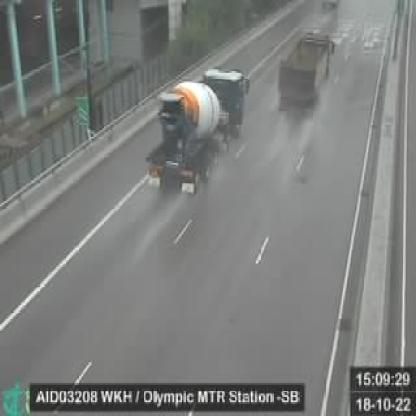Truck: (146, 65, 252, 198), (278, 27, 336, 112)
